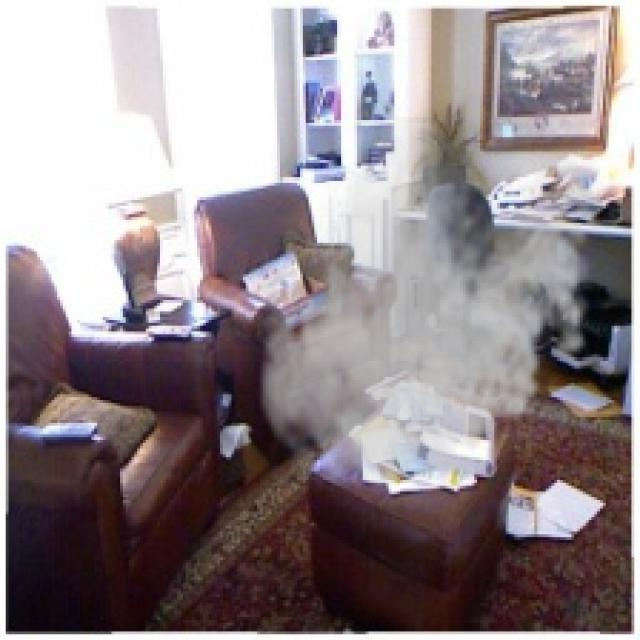smoke: (252, 117, 612, 503)
